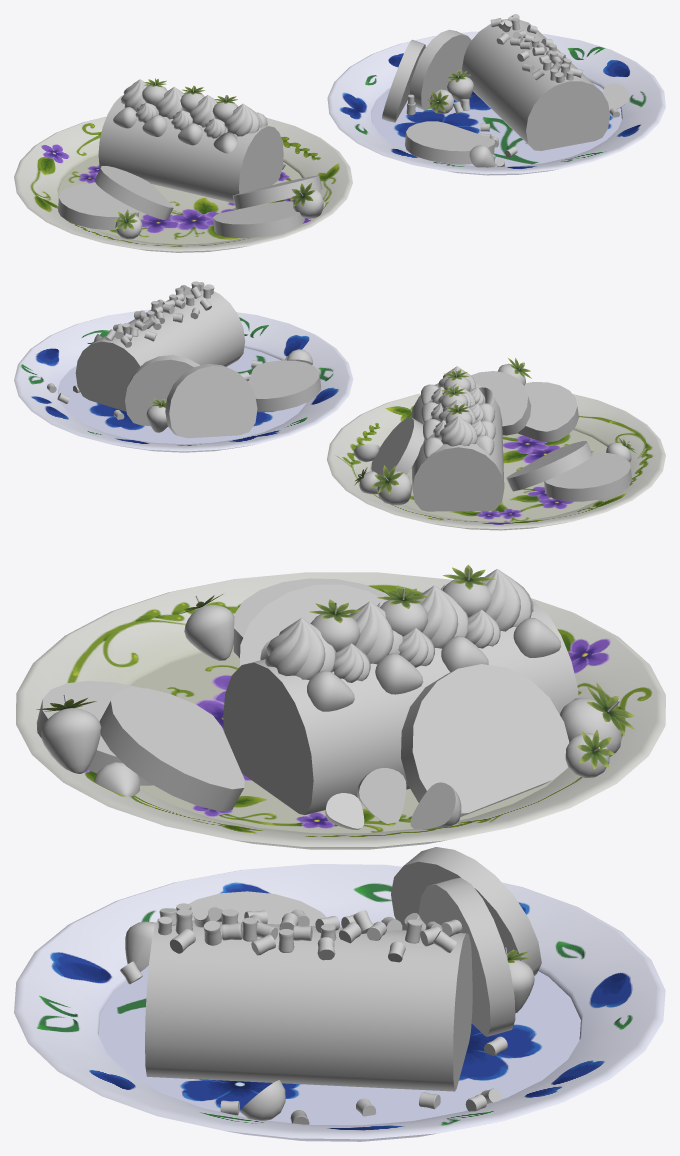
Rendered from Setup.fbx.
3 views of the same model, one above another, from view 1: azimuth 30°, elevation 25°; view 2: azimuth 150°, elevation 25°; view 3: azimuth 270°, elevation 25° (orthographic). The views are drawn at different scales.
Visible parts, largest first — view 1: SM_Swiss_Roll_Vanilla, SM_Swiss_Roll_Chocolate; view 2: SM_Swiss_Roll_Vanilla, SM_Swiss_Roll_Chocolate; view 3: SM_Swiss_Roll_Chocolate, SM_Swiss_Roll_Vanilla.
Boxes of the visible parts, x1,y1,x2,y2 form: SM_Swiss_Roll_Vanilla: (14,78,352,252); SM_Swiss_Roll_Chocolate: (327,14,665,175); SM_Swiss_Roll_Vanilla: (327,358,665,530); SM_Swiss_Roll_Chocolate: (14,281,353,452); SM_Swiss_Roll_Chocolate: (14,847,665,1141); SM_Swiss_Roll_Vanilla: (16,564,665,849).
Bounding box in the file's own units: 55.54 × 8.24 × 26.88.
